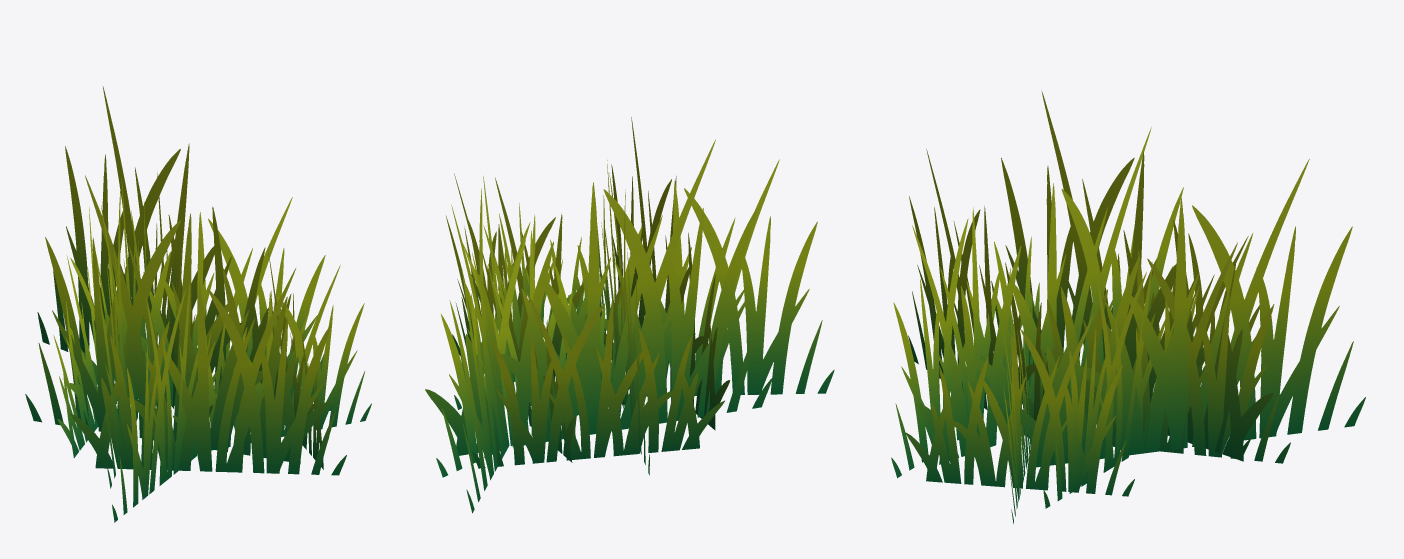
Rendered from low_grass_09.gltf.
3 views of the same model, side by side, from view 1: azimuth 30°, elevation 25°; view 2: azimuth 150°, elevation 25°; view 3: azimuth 270°, elevation 25° (orthographic). The views are drawn at different scales.
Parts seen in each view (by area): view 1: default; view 2: default; view 3: default.
Boxes of the visible parts, bbox=[...] form: default: bbox=[25, 86, 371, 522]; default: bbox=[425, 117, 834, 513]; default: bbox=[891, 91, 1365, 523].
Bounding box in the file's own units: 0.8227 × 0.8109 × 1.04.
1 material, 1 textured.
